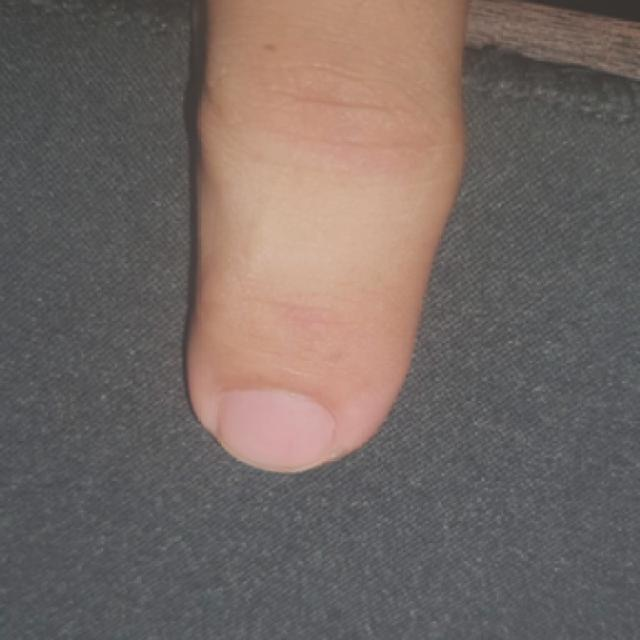Nail: (214, 390, 335, 472)
